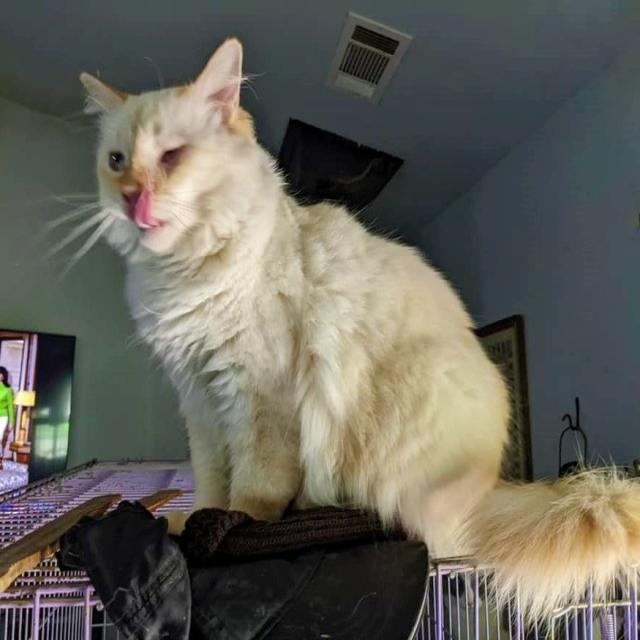maine_coon_cat: (76, 19, 266, 297)
